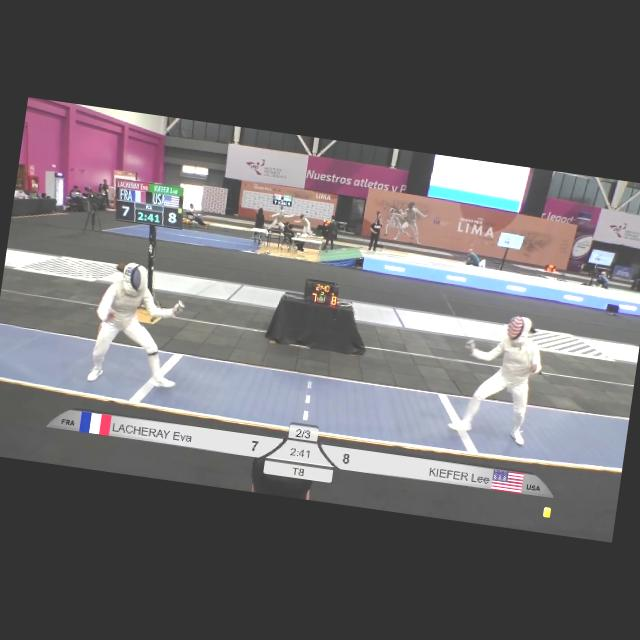blade: (427, 283, 483, 348), (179, 262, 240, 316)
